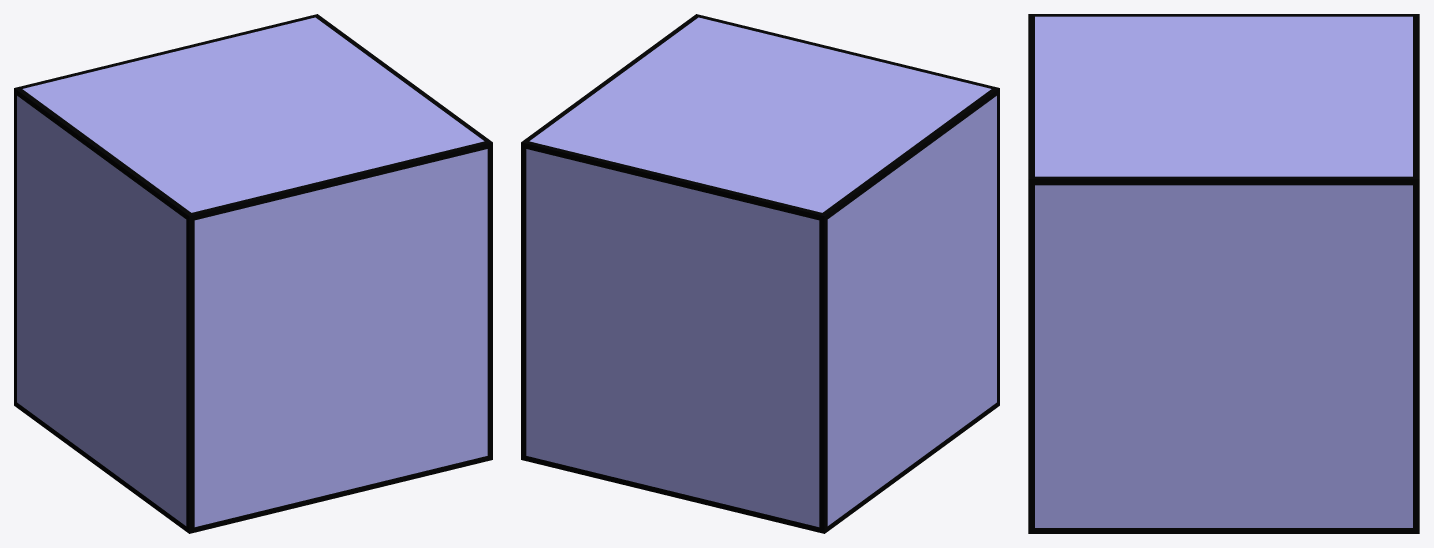
3 views of the same model, side by side, from view 1: azimuth 30°, elevation 25°; view 2: azimuth 150°, elevation 25°; view 3: azimuth 270°, elevation 25° (orthographic). The views are drawn at different scales.
Visible parts, largest first — view 1: polymsh_detached1.2_1, cube.1_0; view 2: polymsh_detached1.2_1, cube.1_0; view 3: polymsh_detached1.2_1, cube.1_0.
Part boxes in pixels (left/top/right/bottom): polymsh_detached1.2_1: left=17, top=17, right=487, bottom=526; cube.1_0: left=14, top=14, right=492, bottom=533; polymsh_detached1.2_1: left=526, top=17, right=996, bottom=526; cube.1_0: left=521, top=14, right=999, bottom=533; polymsh_detached1.2_1: left=1035, top=16, right=1412, bottom=527; cube.1_0: left=1028, top=14, right=1419, bottom=533.
Bounding box in the file's own units: 1 × 1 × 1.
